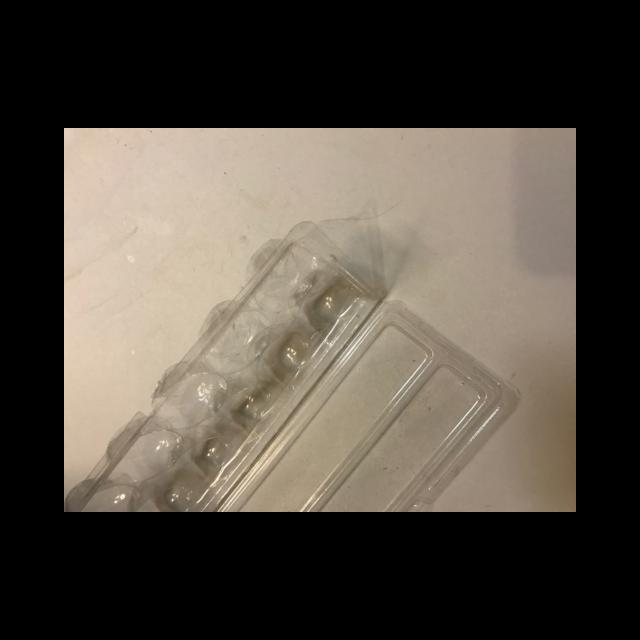plastic: (64, 219, 519, 511), (198, 300, 520, 511)
